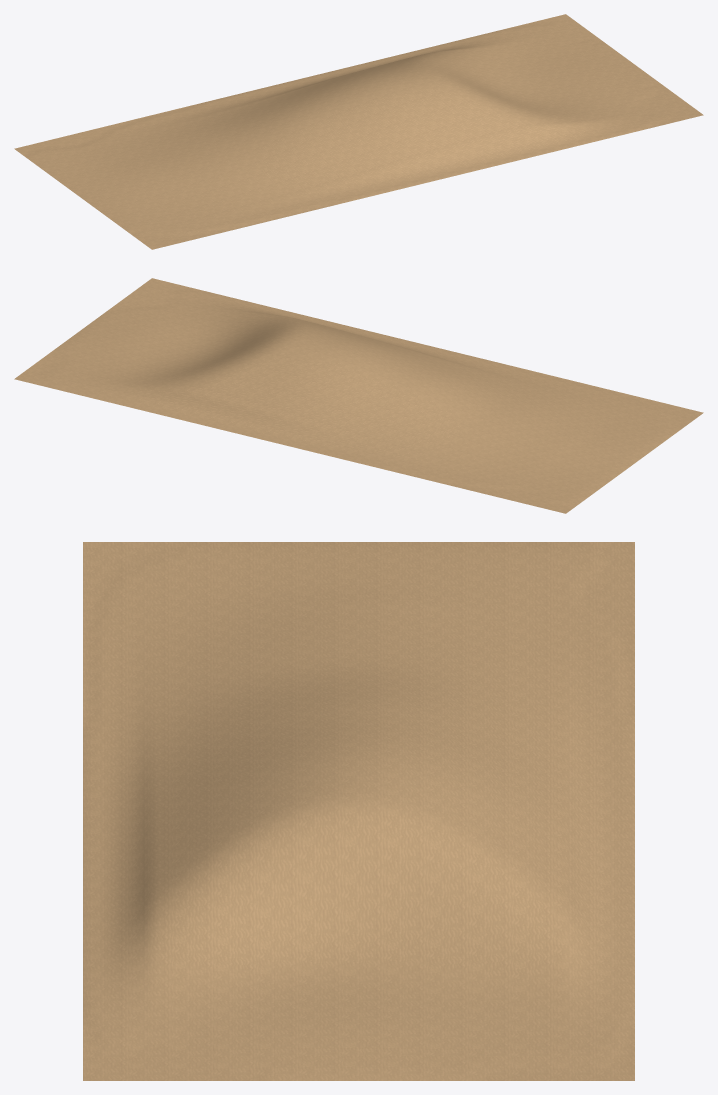
File: kum_tepesi_uzun.gltf
3 views of the same model, one above another, from view 1: azimuth 30°, elevation 25°; view 2: azimuth 150°, elevation 25°; view 3: azimuth 270°, elevation 25° (orthographic). The views are drawn at different scales.
Visible parts, largest first — view 1: kum_tepesi_uzun; view 2: kum_tepesi_uzun; view 3: kum_tepesi_uzun.
Boxes of the visible parts, x1,y1,x2,y2 form: kum_tepesi_uzun: [14, 14, 703, 249]; kum_tepesi_uzun: [14, 278, 703, 513]; kum_tepesi_uzun: [83, 542, 634, 1080].
Size of what is drawn, in the model's own units: 60 by 4.05 by 26.
1 material, 1 textured.
